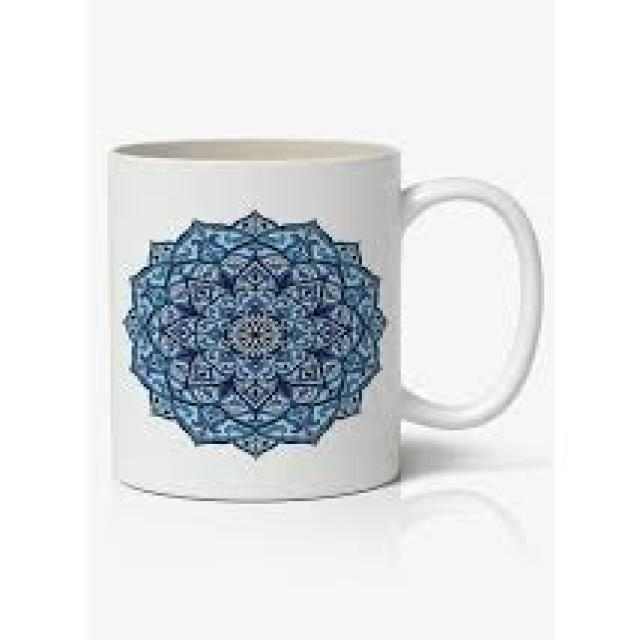taza: (106, 136, 543, 503)
